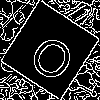O: (25, 24, 84, 85)
